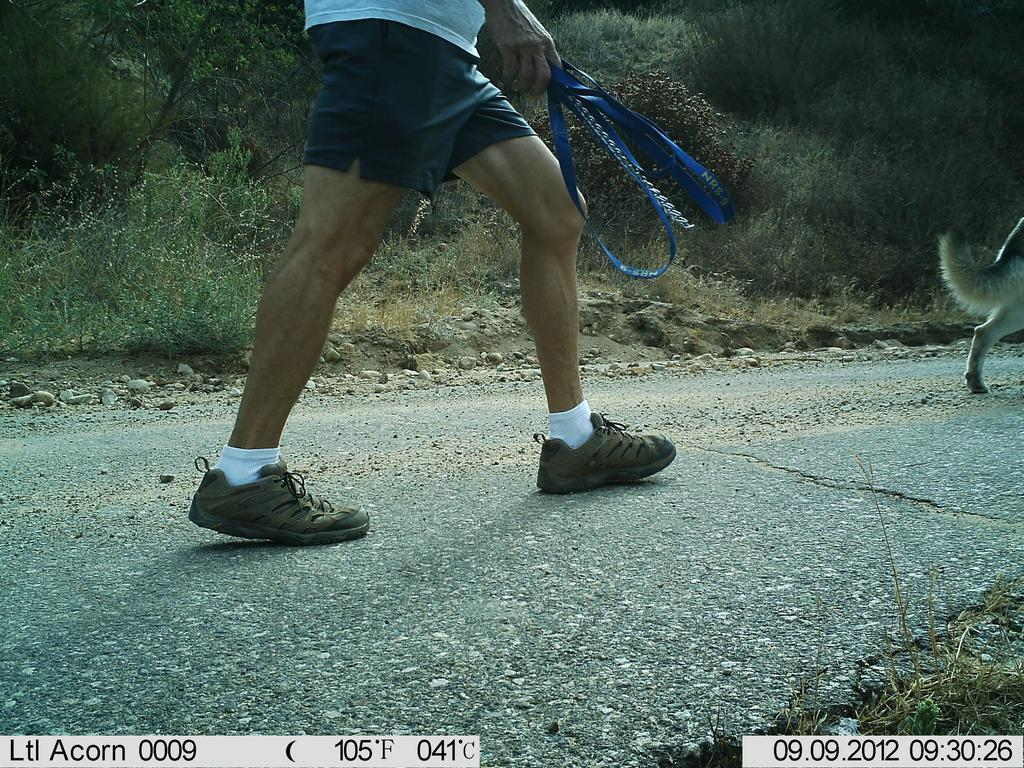dog: (929, 204, 1023, 400)
